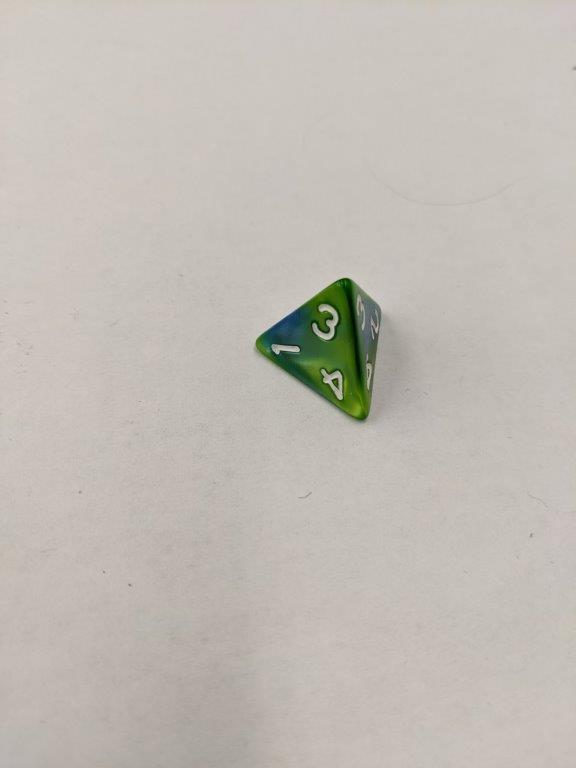d4-3: (249, 275, 388, 422)
